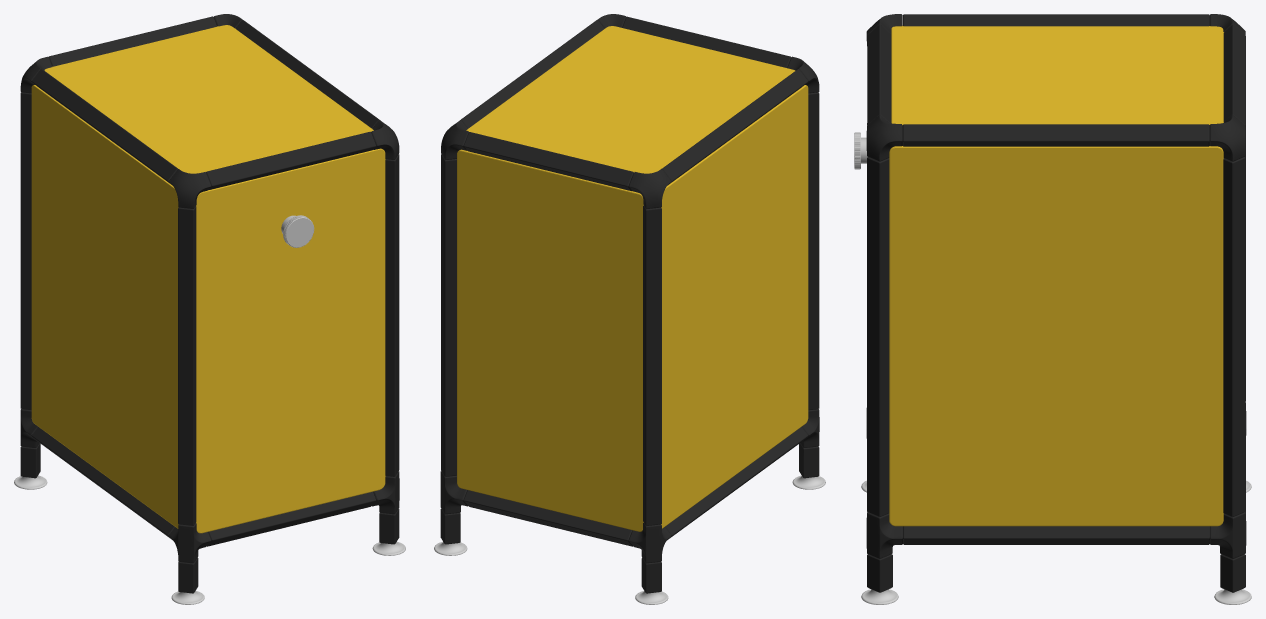
The picture shows the model from 3 angles, left to right: view 1: azimuth 30°, elevation 25°; view 2: azimuth 150°, elevation 25°; view 3: azimuth 270°, elevation 25°; orthographic projection. The views are drawn at different scales.
Visible parts, largest first — view 1: 229x329x420; view 2: 229x329x420; view 3: 229x329x420.
Boxes of the visible parts, bbox=[...] form: 229x329x420: bbox=[14, 14, 405, 604]; 229x329x420: bbox=[434, 14, 825, 604]; 229x329x420: bbox=[854, 14, 1251, 604].
Bounding box in the file's own units: 0.319 × 0.5593 × 0.4258.
